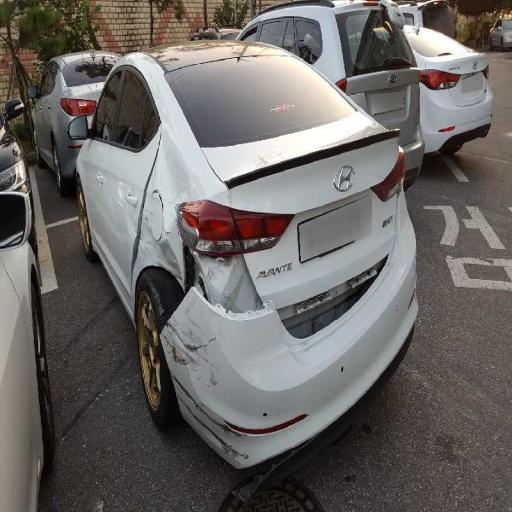broken: (116, 160, 334, 413)
